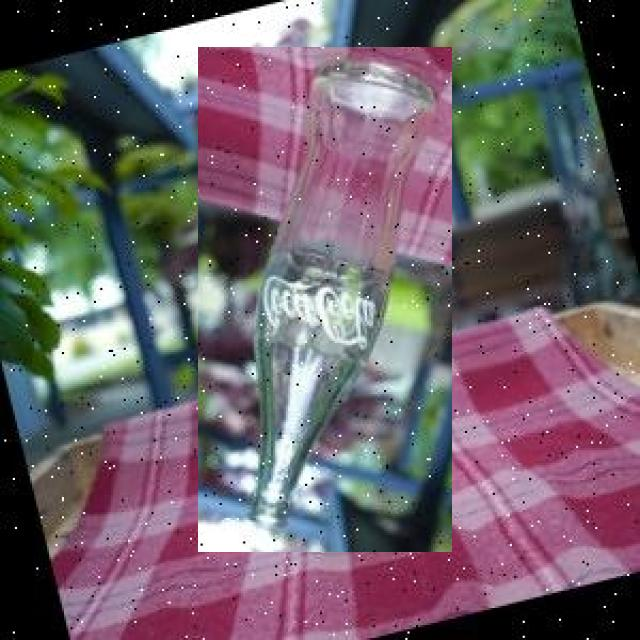coca-cola: (198, 47, 452, 552)
